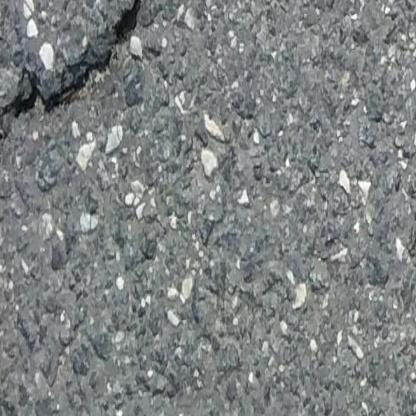Cracks: (0, 0, 158, 233)
